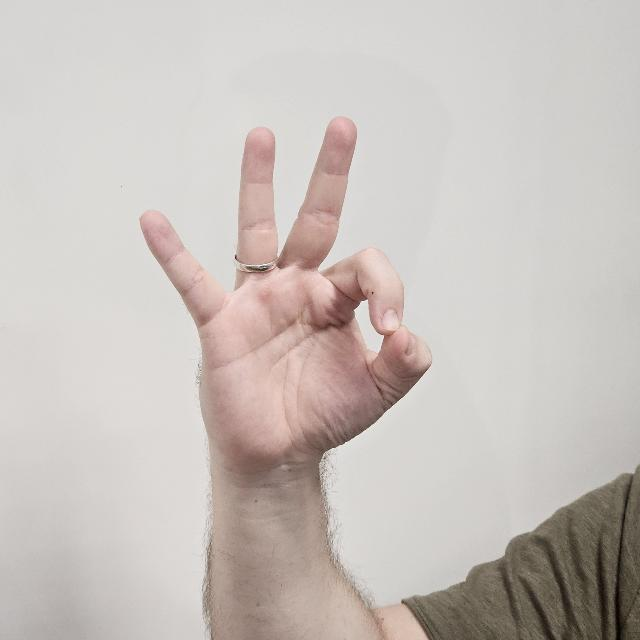Bolinha: (136, 114, 434, 498)
